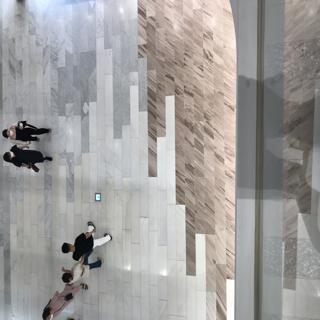person: (57, 224, 112, 266), (1, 148, 60, 178), (1, 117, 54, 140), (58, 269, 101, 289)
